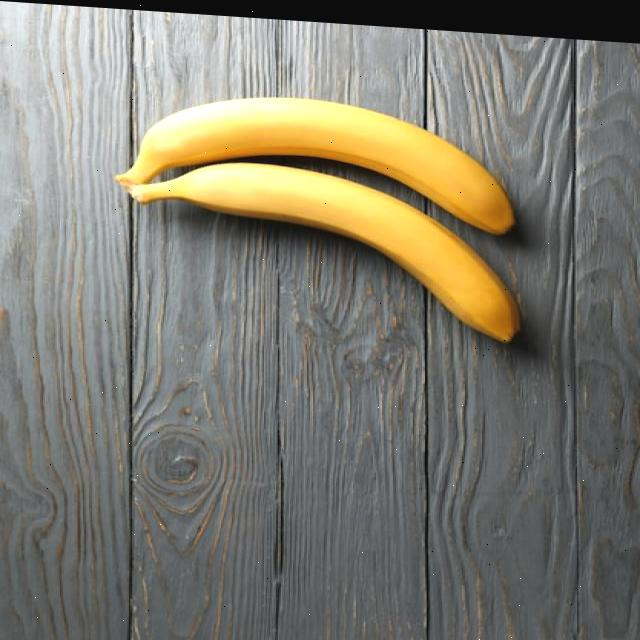banana: (114, 83, 528, 360)
